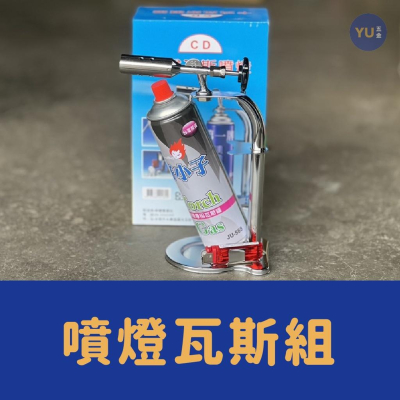gastorch: (120, 53, 273, 276)
